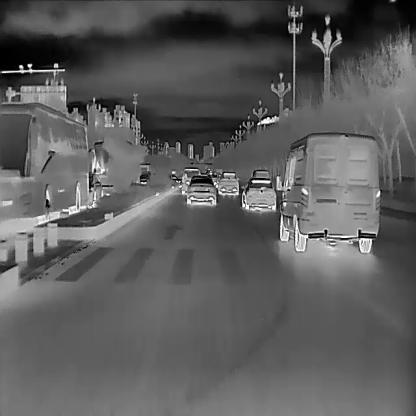bus: (0, 101, 88, 236), (92, 140, 141, 187)
car: (279, 132, 380, 252), (239, 179, 276, 213), (184, 175, 216, 204), (216, 170, 238, 196), (181, 167, 197, 195), (251, 170, 270, 188)
